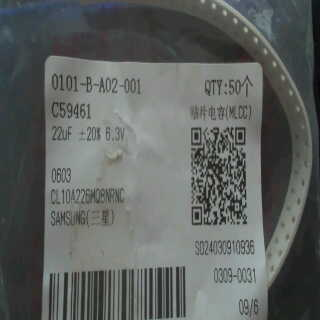22uF: (50, 124, 72, 147)
